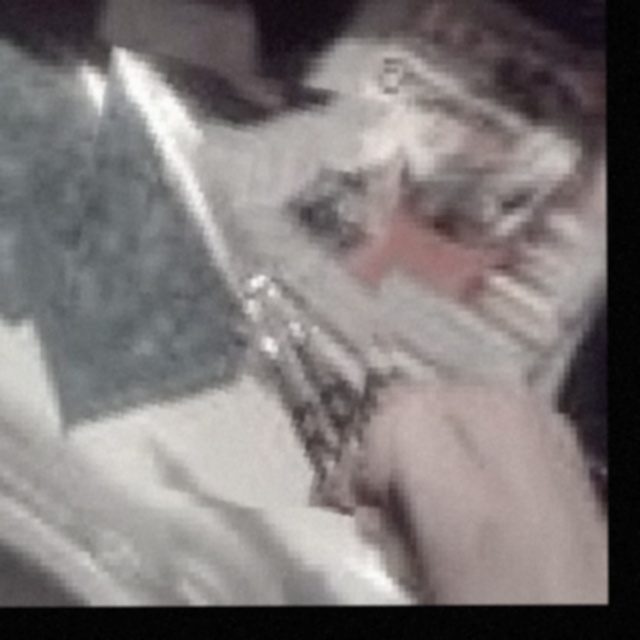Sharp-Object: (65, 56, 400, 508)
